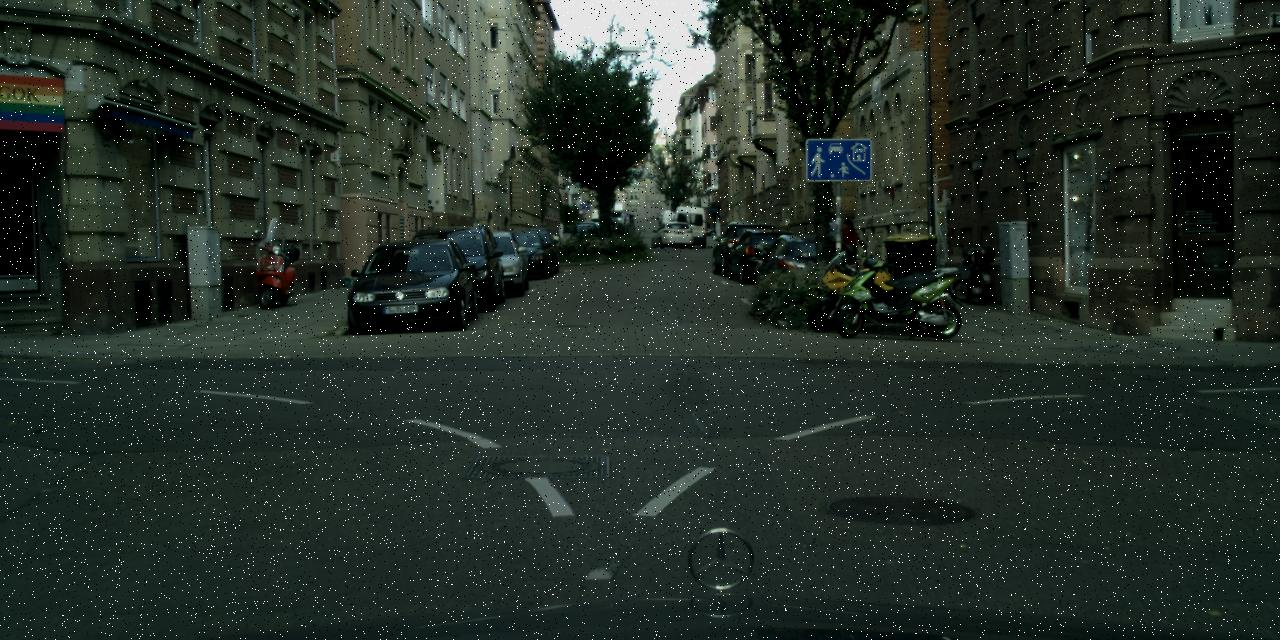ped: (835, 218, 858, 276)
